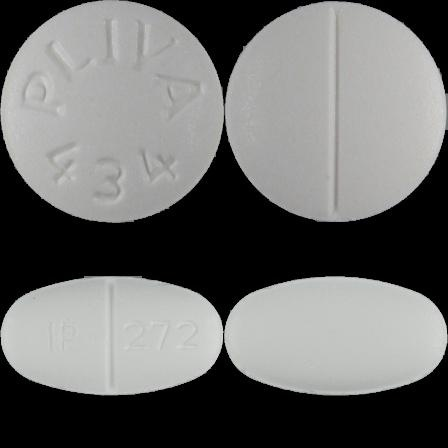50436-4688: (0, 0, 224, 224)
